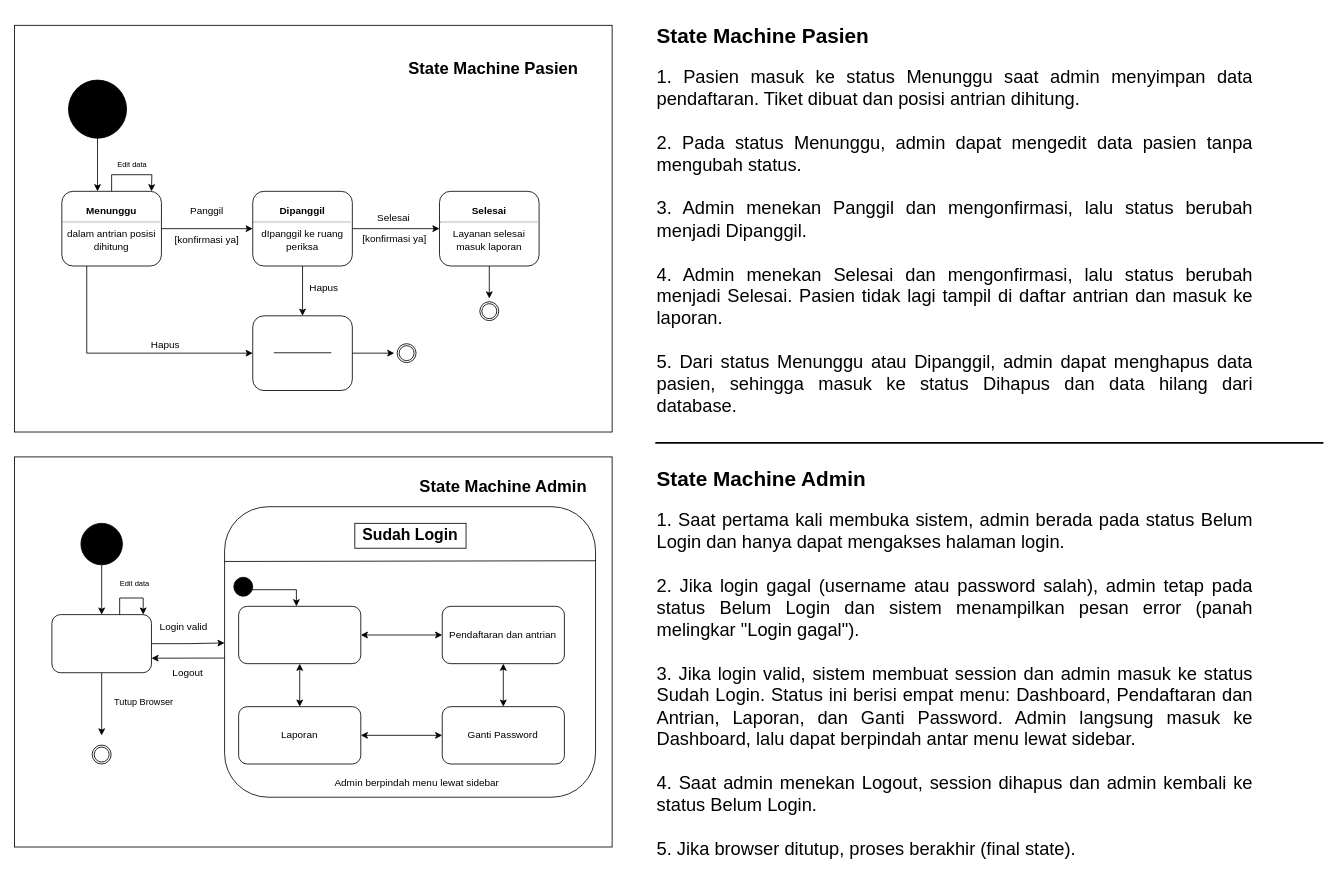
This 1339x881 diagram has some shape labels left out. The centre of each missing label's shape, as x and y in pixels:
"Belum login Halaman login" belongs at point 101,643.
"Dashboard" belongs at point 299,634.
"di hapus data dihapus" belongs at point 302,353.
